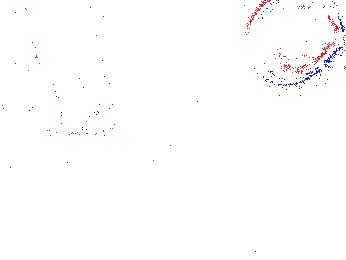moon jellyfish: (246, 1, 342, 86), (30, 78, 151, 137), (35, 4, 88, 91), (1, 1, 37, 91)
